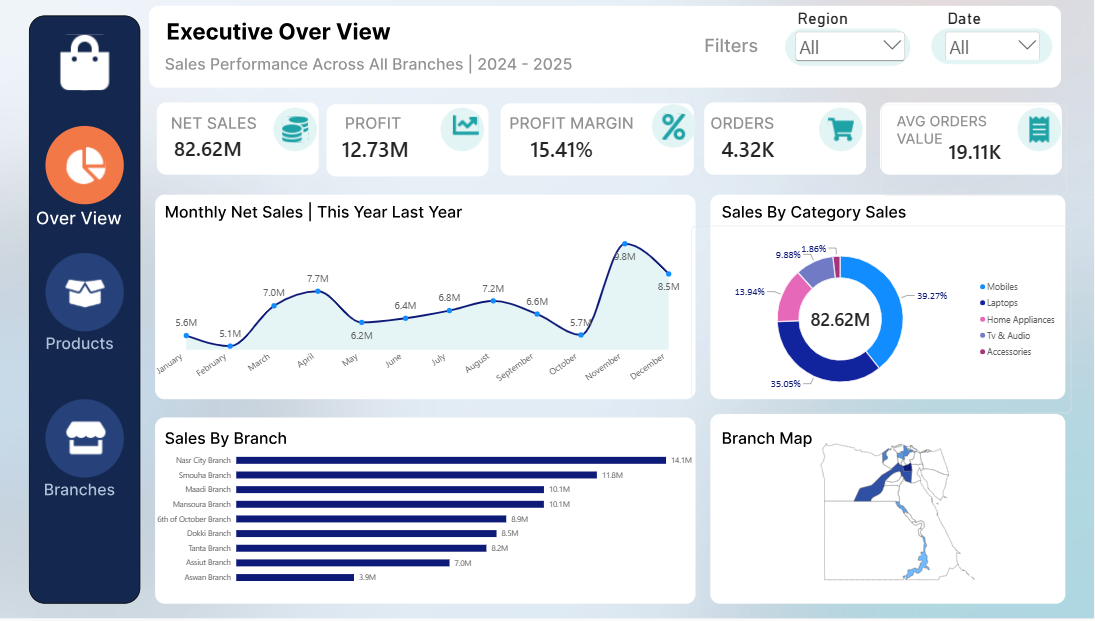

The page's visual inventory and layout, read from the dashboard file:
{"tool":"powerbi","page":{"name":"Excutive Overview","canvas":[1920,1080],"ordinal":1},"visuals":[{"type":"cardVisual","fields":{"Data":["_Measures.Net_Sales"]},"box":[192,208,297,146],"z":0},{"type":"cardVisual","fields":{"Data":["_Measures.Profit"]},"box":[460,208,297,146],"z":1000},{"type":"cardVisual","fields":{"Data":["_Measures.Profit_Margin%"]},"box":[758,208,297,146],"z":2000},{"type":"cardVisual","fields":{"Data":["_Measures.Completed_Orders"]},"box":[1056,208,297,146],"z":3000},{"type":"cardVisual","fields":{"Data":["_Measures.AOV"]},"box":[1418,212,297,146],"z":4000},{"type":"lineChart","fields":{"Category":["Date Table.Date.Variation.Date Hierarchy.Year","Date Table.Date.Variation.Date Hierarchy.Quarter","Date Table.Date.Variation.Date Hierarchy.Month","Date Table.Date.Variation.Date Hierarchy.Day"],"Y":["_Measures.Net_Sales"]},"box":[234,406,888,284],"z":5000},{"type":"donutChart","fields":{"Category":["Products.Category"],"Y":["_Measures.Net_Sales"]},"box":[1114,406,608,300],"z":6000},{"type":"clusteredBarChart","fields":{"Category":["Branches.BranchName"],"Y":["_Measures.Net_Sales"]},"box":[234,744,948,256],"z":7000},{"type":"shapeMap","fields":{"Category":["Branches.Governorate"],"Value":["_Measures.Net_Sales"]},"box":[1150,728,588,272],"z":8000},{"type":"slicer","fields":{"Values":["Branches.Region"]},"box":[1276,58,184,88],"z":9000},{"type":"slicer","fields":{"Values":["Customers.JoinDate.Variation.Date Hierarchy.Year"]},"box":[1516,58,160,82],"z":10000},{"type":"actionButton","box":[96,446,96,110],"z":11000},{"type":"actionButton","box":[96,674,96,110],"z":12000}]}

Visuals, with their boxes in screenshot pixels (x1, y1, x2, y2), scaled from the page's 1920x1080 canvas onto the 1095x621 screenshot:
cardVisual - _Measures.Net_Sales: 110 120 279 204
cardVisual - _Measures.Profit: 262 120 432 204
cardVisual - _Measures.Profit_Margin%: 432 120 602 204
cardVisual - _Measures.Completed_Orders: 602 120 772 204
cardVisual - _Measures.AOV: 809 122 978 206
lineChart - Date Table.Date.Variation.Date Hierarchy.Year x Date Table.Date.Variation.Date Hierarchy.Quarter: 133 233 640 397
donutChart - Products.Category x _Measures.Net_Sales: 635 233 982 406
clusteredBarChart - Branches.BranchName x _Measures.Net_Sales: 133 428 674 575
shapeMap - Branches.Governorate x _Measures.Net_Sales: 656 419 991 575
slicer - Branches.Region: 728 33 833 84
slicer - Customers.JoinDate.Variation.Date Hierarchy.Year: 865 33 956 80
actionButton: 55 256 110 320
actionButton: 55 388 110 451
